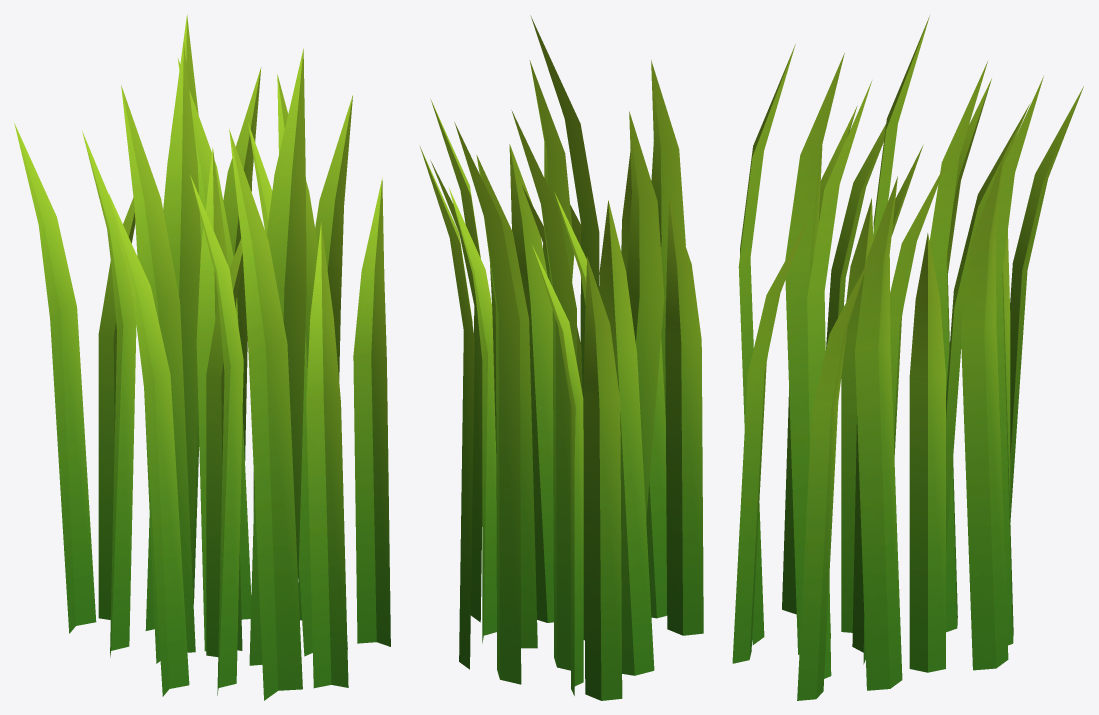
The picture shows the model from 3 angles, left to right: view 1: azimuth 30°, elevation 25°; view 2: azimuth 150°, elevation 25°; view 3: azimuth 270°, elevation 25°; orthographic projection. The views are drawn at different scales.
Visible parts, largest first — view 1: Reed; view 2: Reed; view 3: Reed.
Boxes of the visible parts, x1,y1,x2,y2 form: Reed: (14, 15, 390, 700); Reed: (419, 15, 703, 700); Reed: (732, 15, 1083, 700).
Bounding box in the file's own units: 13.78 × 30 × 15.45.
Materials: 1 (1 with a texture image).
